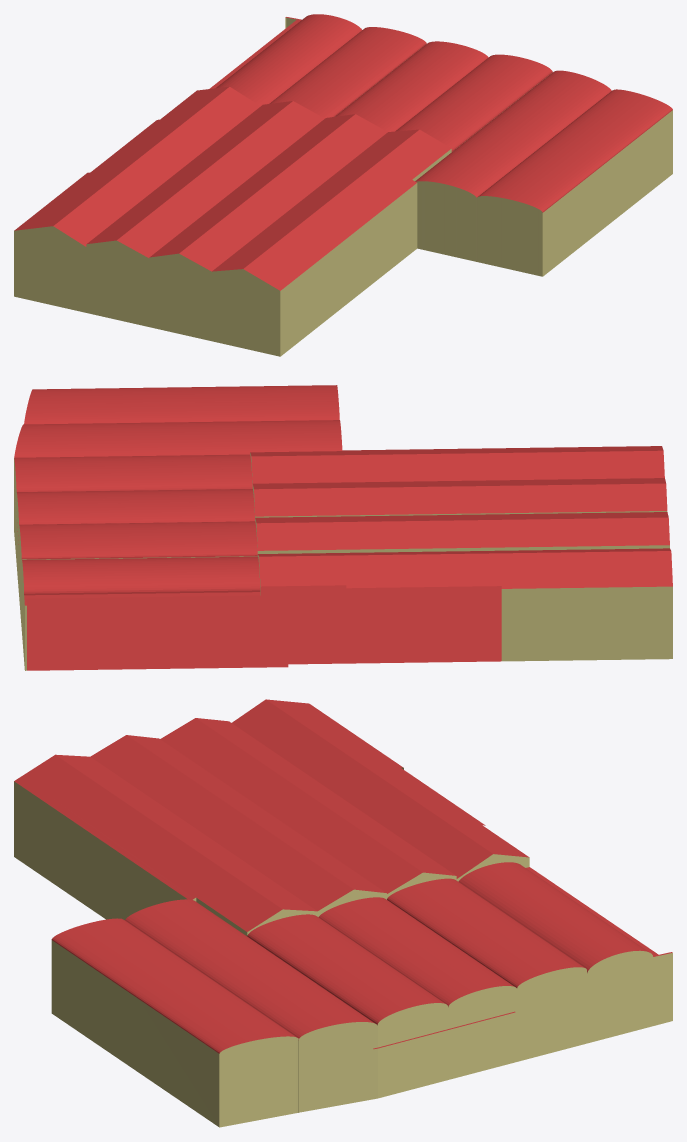
The picture shows the model from 3 angles, top to bottom: view 1: azimuth 30°, elevation 25°; view 2: azimuth 150°, elevation 25°; view 3: azimuth 270°, elevation 25°; orthographic projection. The views are drawn at different scales.
Size of the model in its own units: 76.43 by 61.12 by 9.46.
